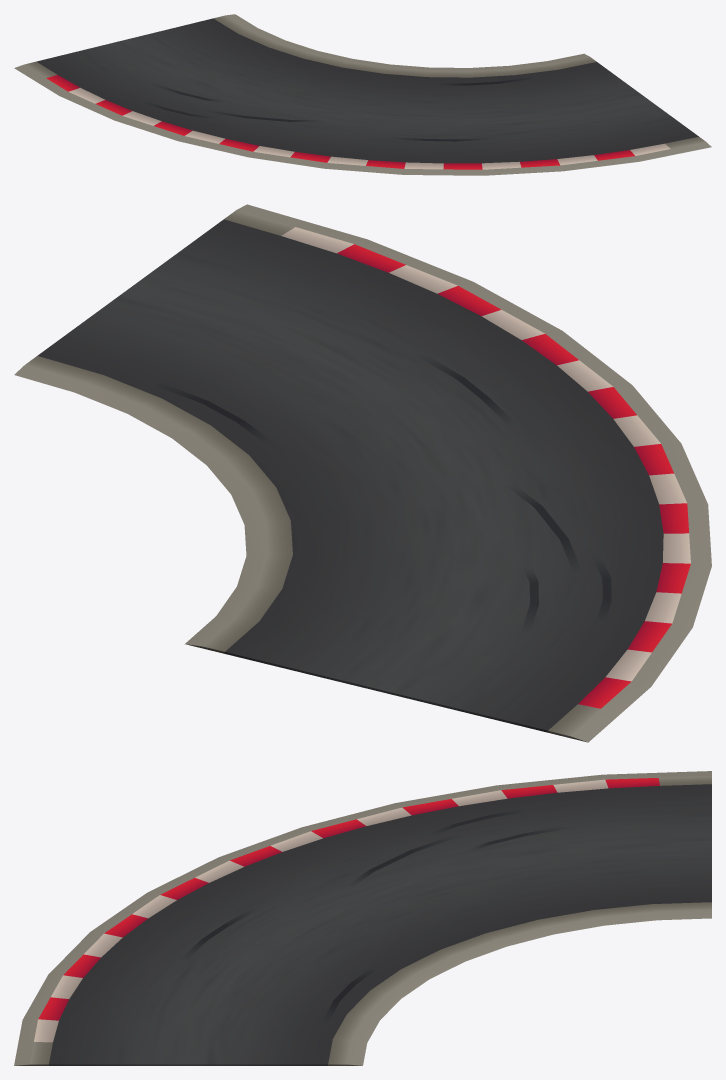
3 views of the same model, one above another, from view 1: azimuth 30°, elevation 25°; view 2: azimuth 150°, elevation 25°; view 3: azimuth 270°, elevation 25° (orthographic). The views are drawn at different scales.
Visible parts, largest first — view 1: Curve_1B, Curve_1B_Skidmarks; view 2: Curve_1B, Curve_1B_Skidmarks; view 3: Curve_1B, Curve_1B_Skidmarks.
Boxes of the visible parts, x1,y1,x2,y2 form: Curve_1B: [14, 14, 711, 175]; Curve_1B_Skidmarks: [141, 77, 533, 141]; Curve_1B: [14, 204, 711, 742]; Curve_1B_Skidmarks: [153, 352, 611, 635]; Curve_1B: [14, 771, 711, 1065]; Curve_1B_Skidmarks: [179, 809, 575, 1021].
Size of the model in its own units: 40 by 0.104 by 40.
1 material, 1 textured.
